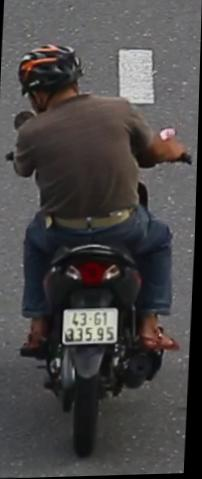LP: (62, 302, 123, 347)
helmet: (13, 38, 85, 112)
